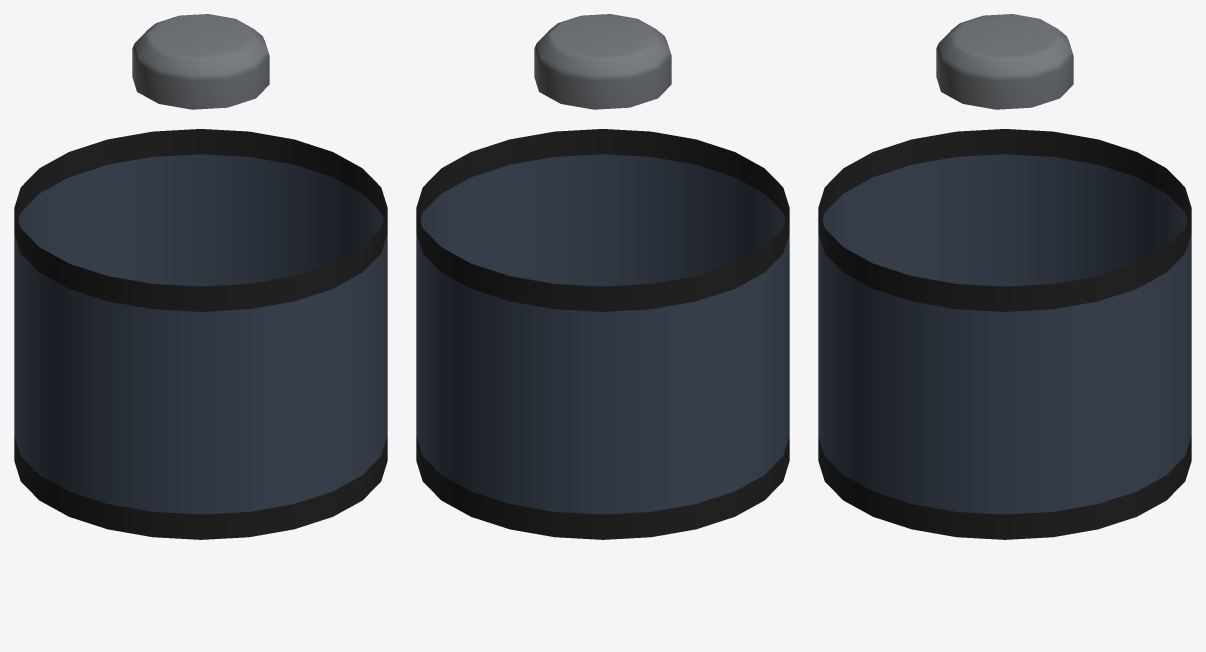
File: env_ruin_tank_01_lod0.fbx
3 views of the same model, side by side, from view 1: azimuth 30°, elevation 25°; view 2: azimuth 150°, elevation 25°; view 3: azimuth 270°, elevation 25° (orthographic).
Parts seen in each view (by area): view 1: env_ruin_tank_01_lod0; view 2: env_ruin_tank_01_lod0; view 3: env_ruin_tank_01_lod0.
Part boxes in pixels (x1,y1,x2,y2): env_ruin_tank_01_lod0: [14, 14, 387, 539]; env_ruin_tank_01_lod0: [416, 14, 789, 539]; env_ruin_tank_01_lod0: [818, 14, 1191, 539].
Size of the model in its own units: 34.76 by 56.65 by 34.76.
